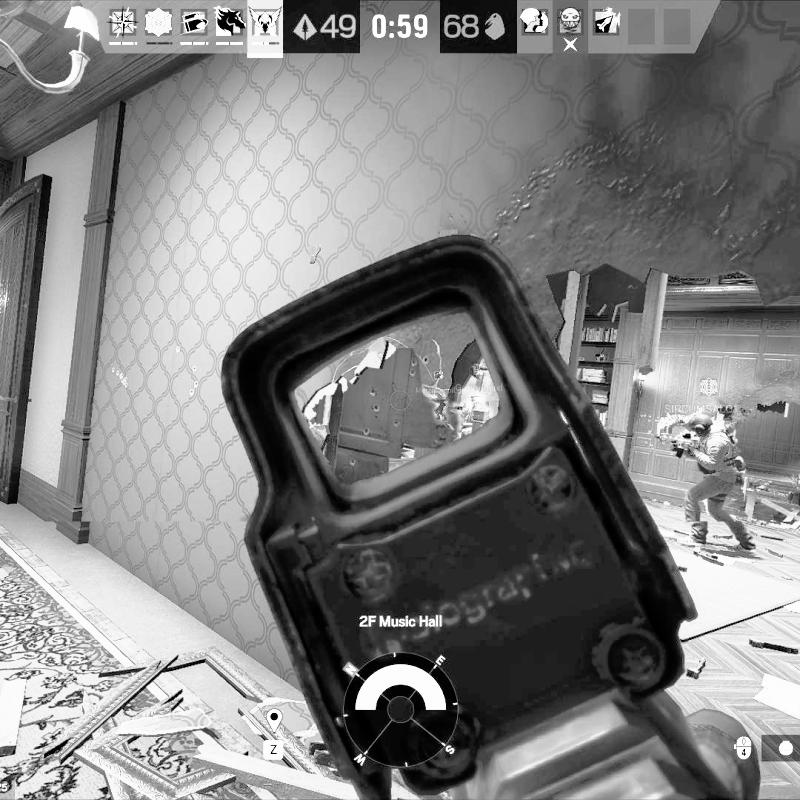Character: (662, 412, 756, 552)
Friend_label: (663, 375, 739, 413), (456, 362, 504, 393), (415, 368, 463, 396)
Head: (686, 413, 713, 436)
